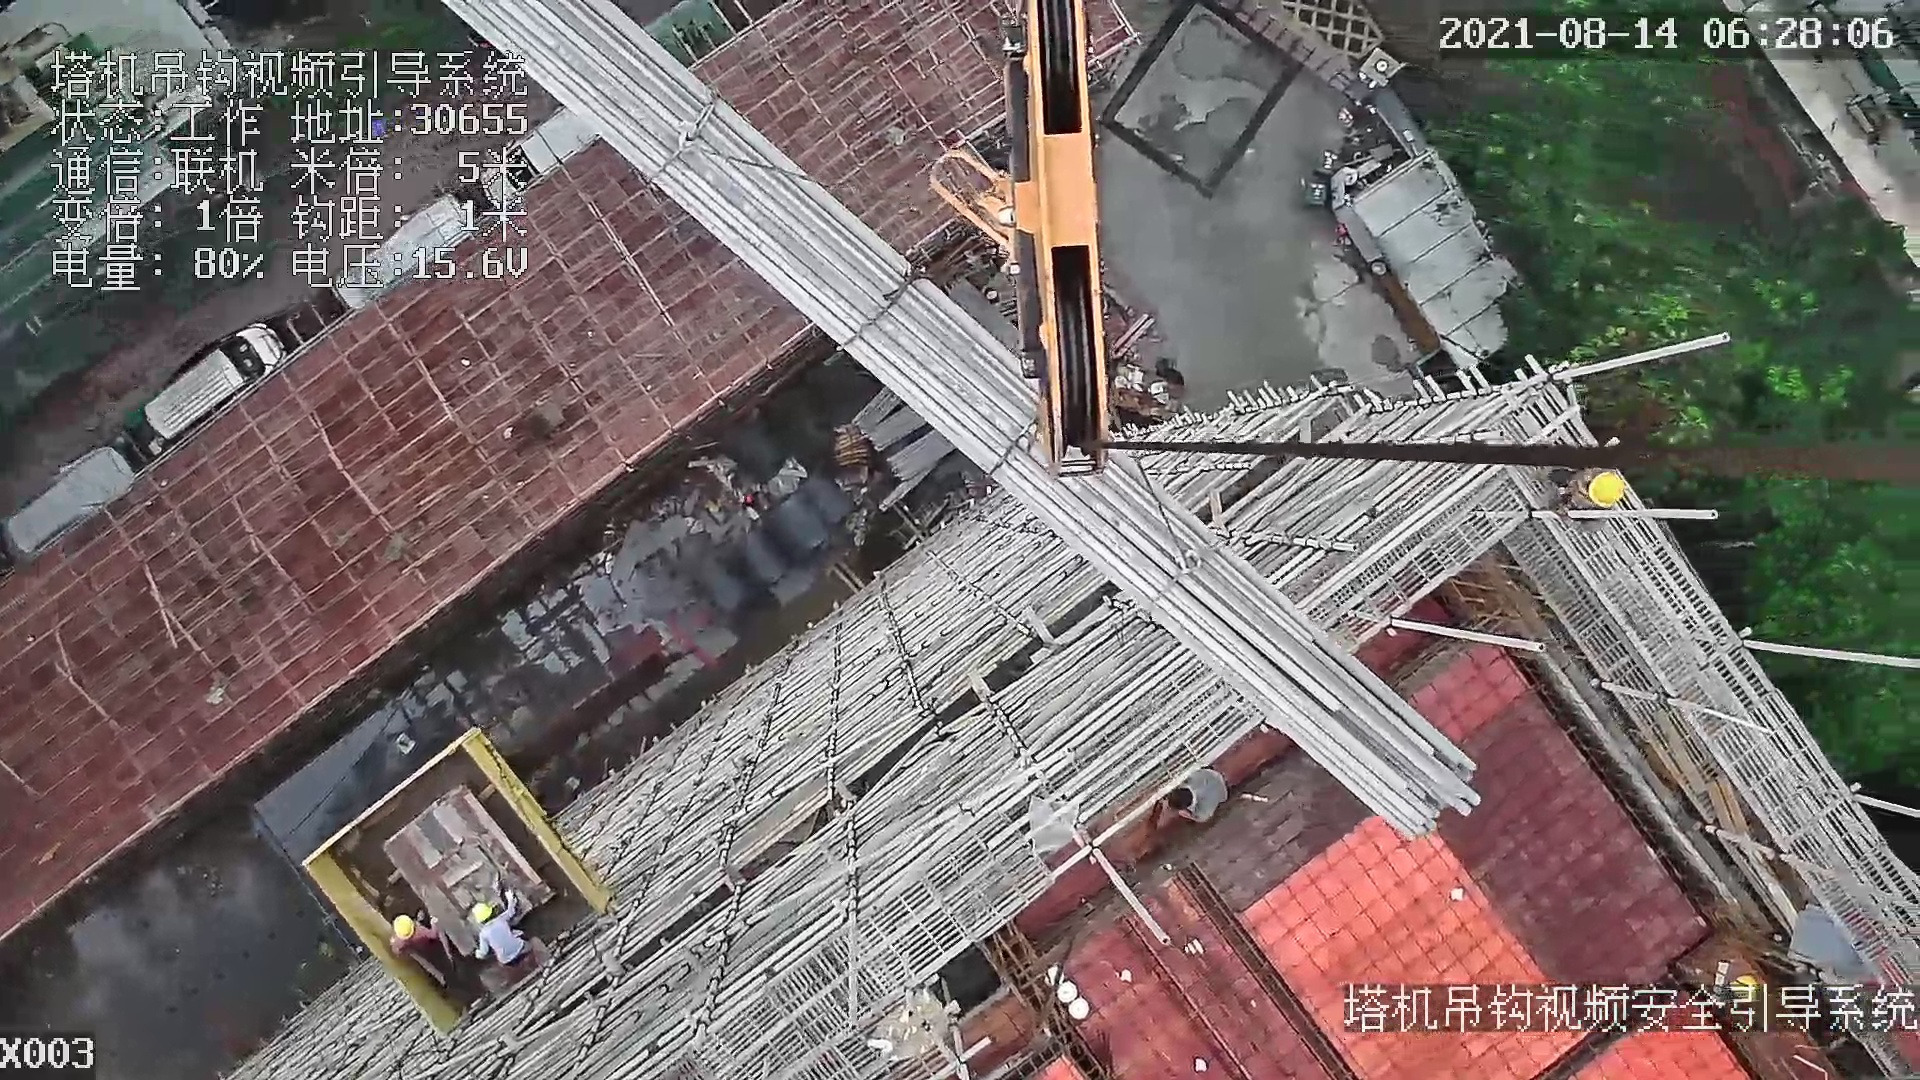helmet: (1578, 460, 1634, 512), (469, 899, 498, 934), (389, 909, 418, 940)
person: (458, 894, 533, 973), (1548, 471, 1632, 525), (386, 914, 437, 960)
